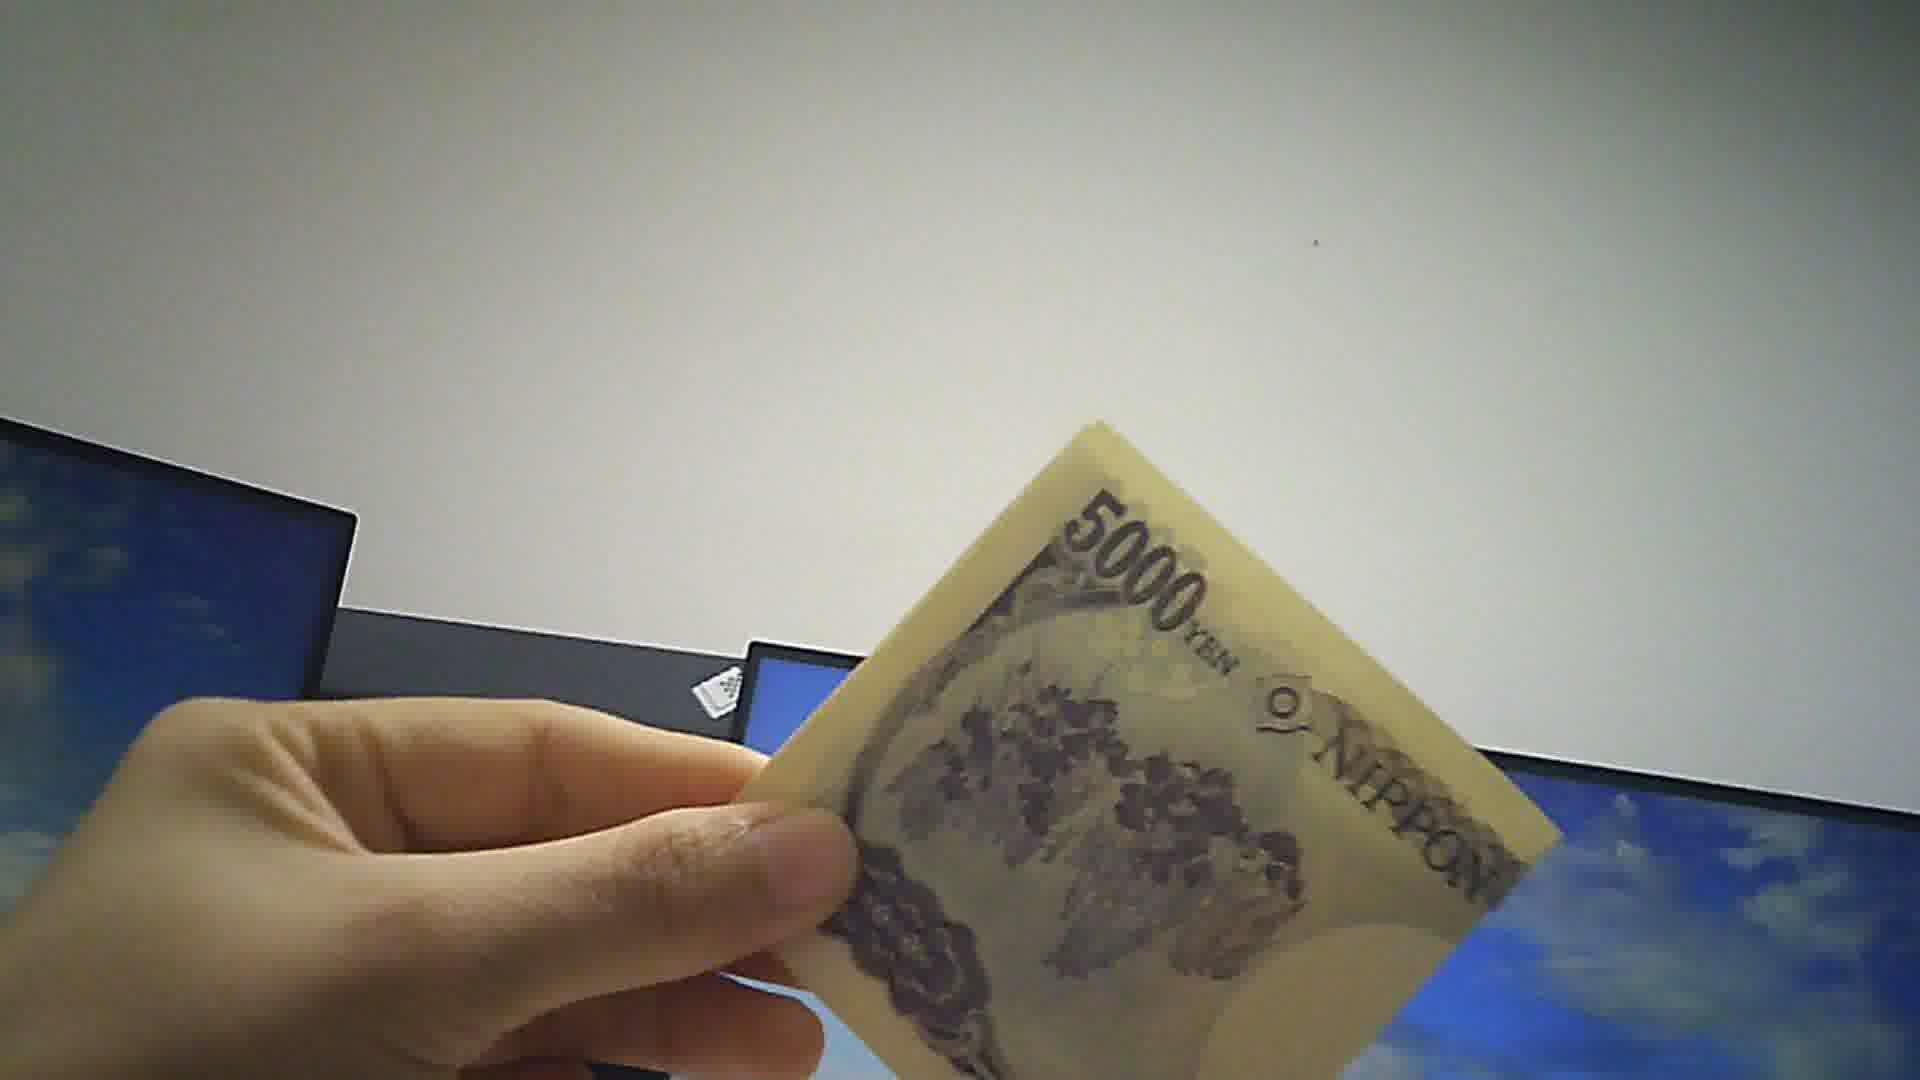5,000 Yen: (691, 400, 1545, 1079)
